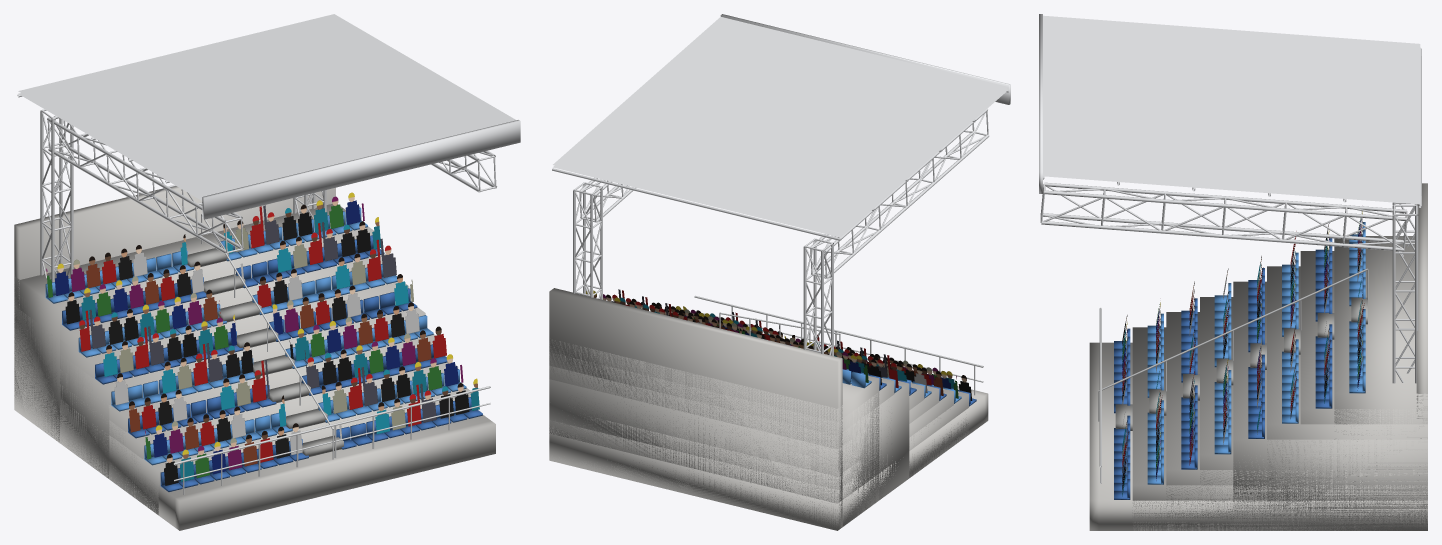
Rendered from bay_10m_roof_crowd.glb.
The picture shows the model from 3 angles, left to right: view 1: azimuth 30°, elevation 25°; view 2: azimuth 150°, elevation 25°; view 3: azimuth 270°, elevation 25°; orthographic projection. The views are drawn at different scales.
Visible parts, largest first — view 1: bay_10m_roof_crowd; view 2: bay_10m_roof_crowd; view 3: bay_10m_roof_crowd.
Part boxes in pixels (x1,y1,x2,y2): bay_10m_roof_crowd: (14, 14, 520, 530); bay_10m_roof_crowd: (549, 14, 1010, 530); bay_10m_roof_crowd: (1039, 14, 1427, 530).
Bounding box in the file's own units: 10 × 10.62 × 10.4.
8 materials, 1 textured.
